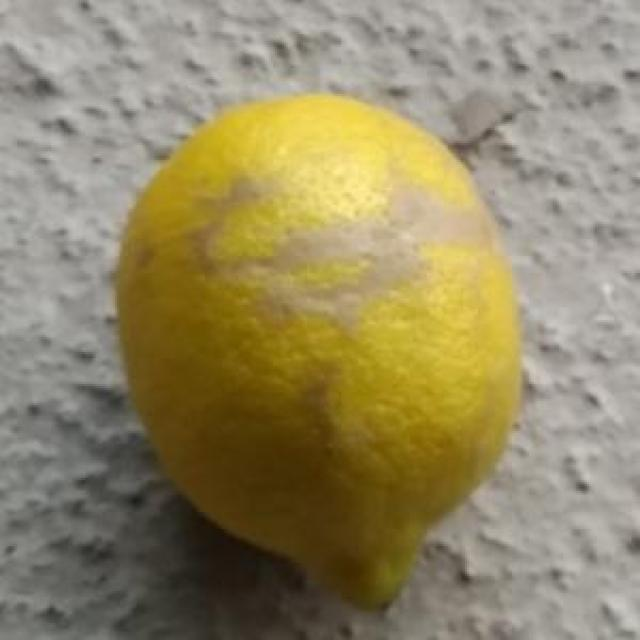lemon: (114, 88, 526, 608)
